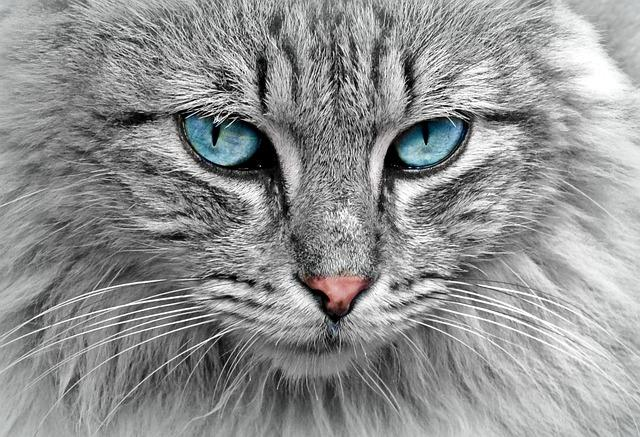Non_Gorille: (6, 0, 635, 436)
